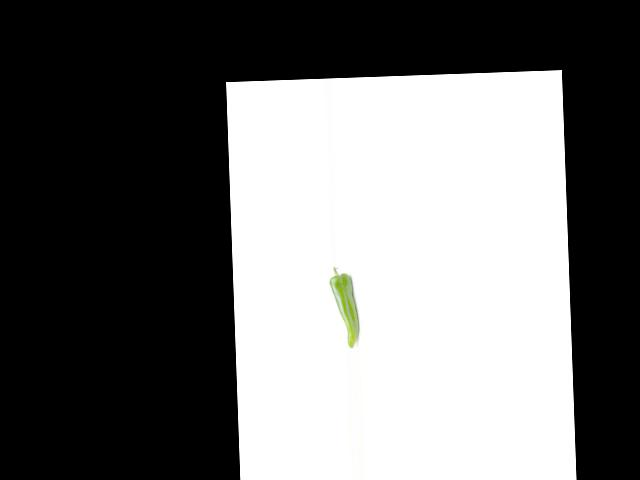bell_pepper: (327, 262, 361, 349)
